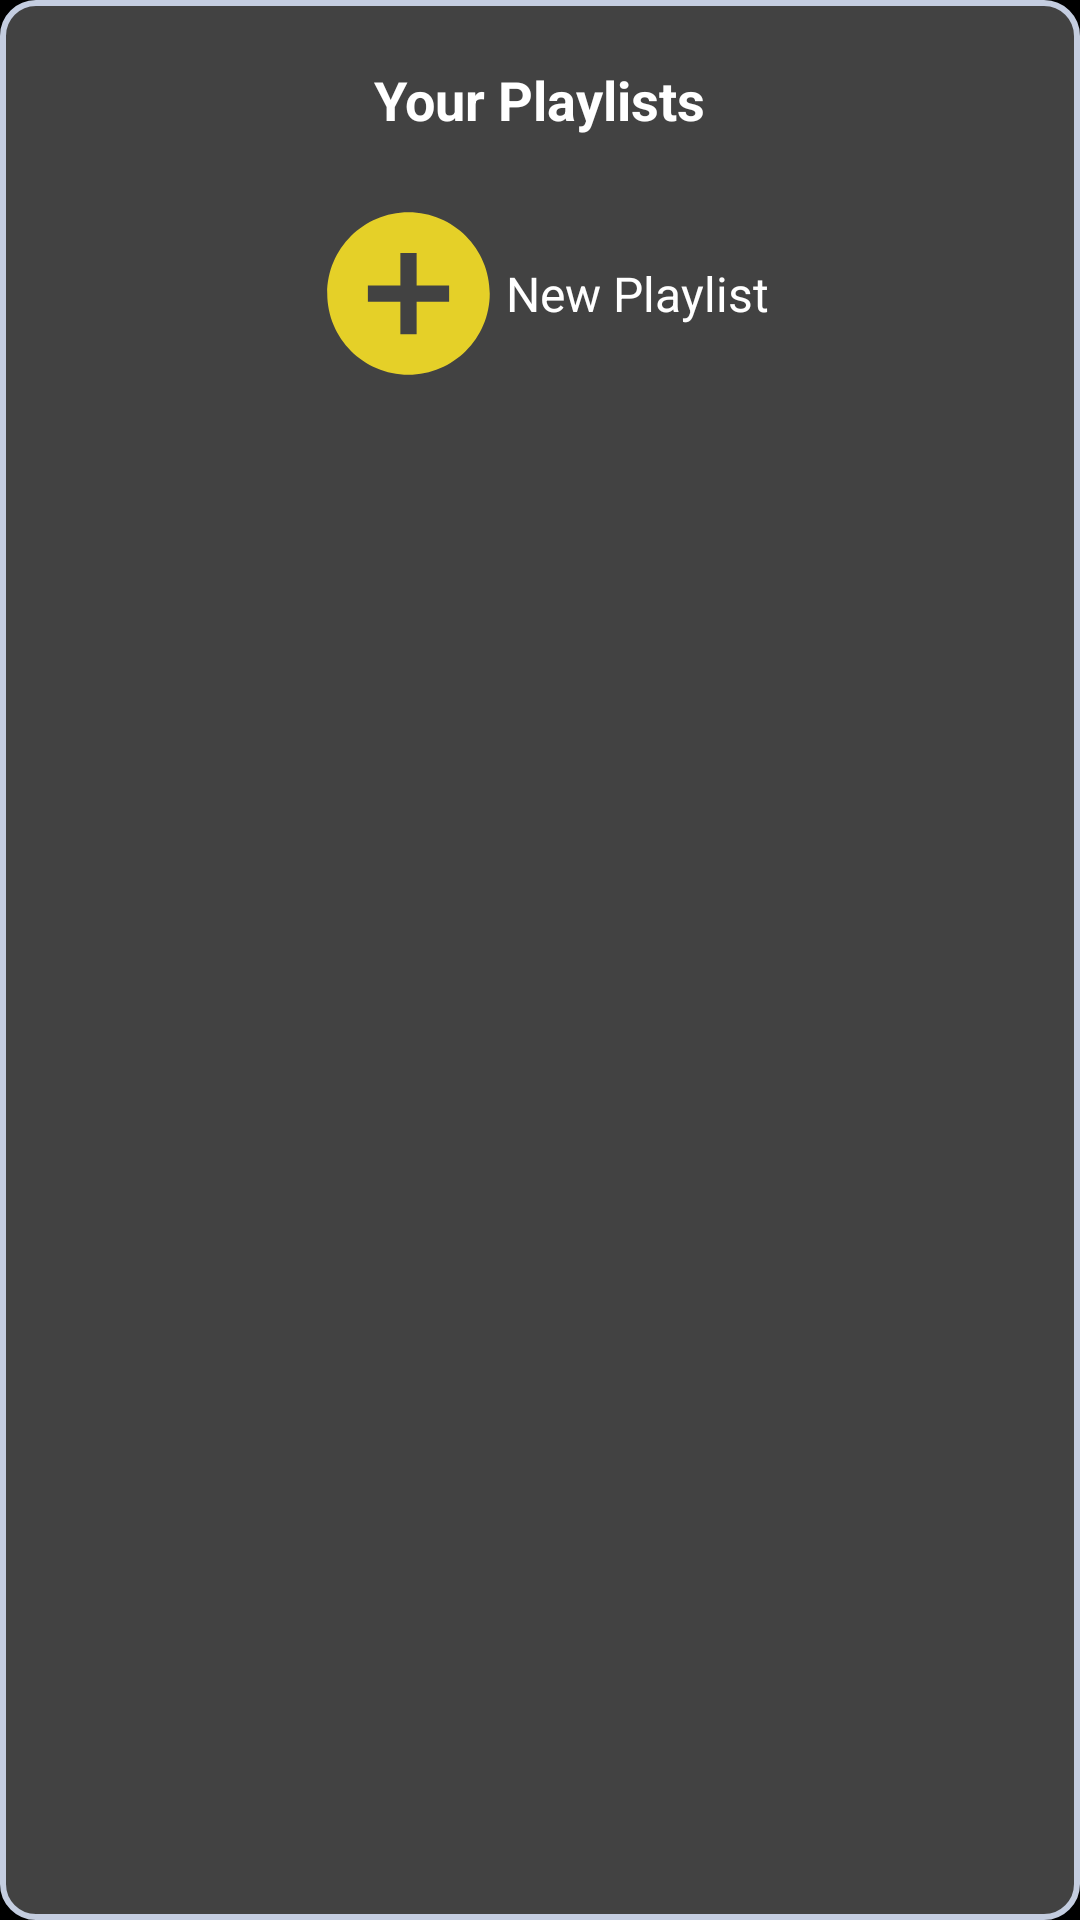

Where to tap for icons on this 1080w x 1920h app screen, as (x=x, y=y):
add: (x=408, y=293)
